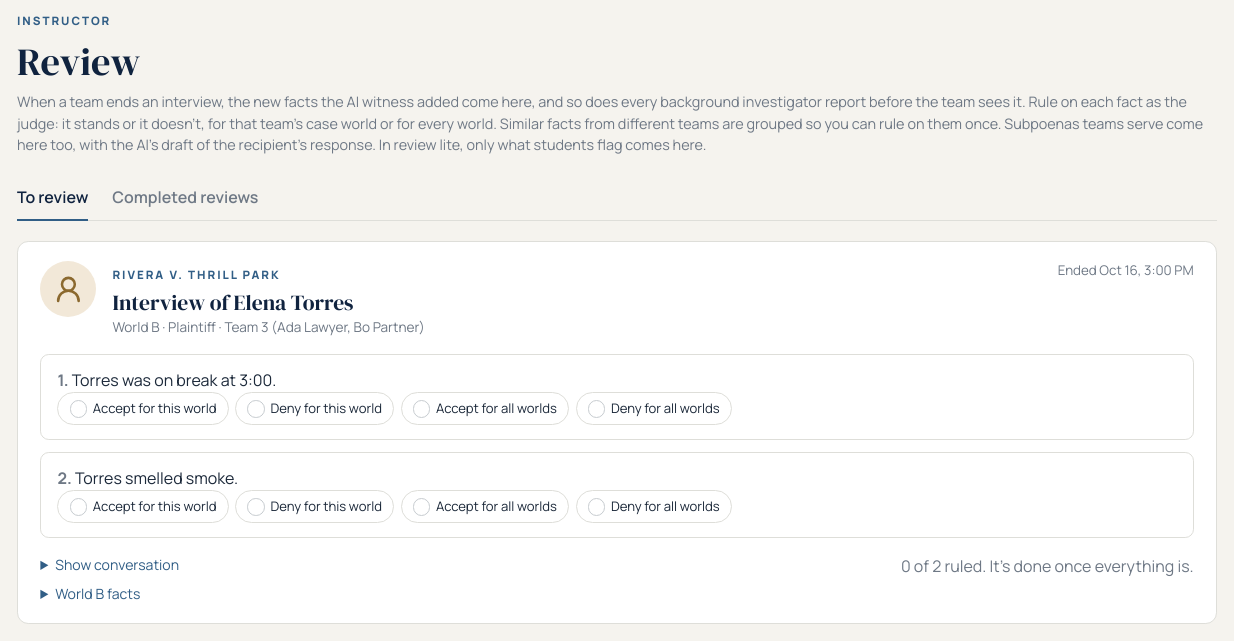
Scenario: ReviewPage › saves each ruling, and the review is done once every fact has one
Click the radio button labelled "Accept for this world" below "Torres was on break at 3:00." at (78, 409), box top-left (70, 400), bottom-right (87, 418)
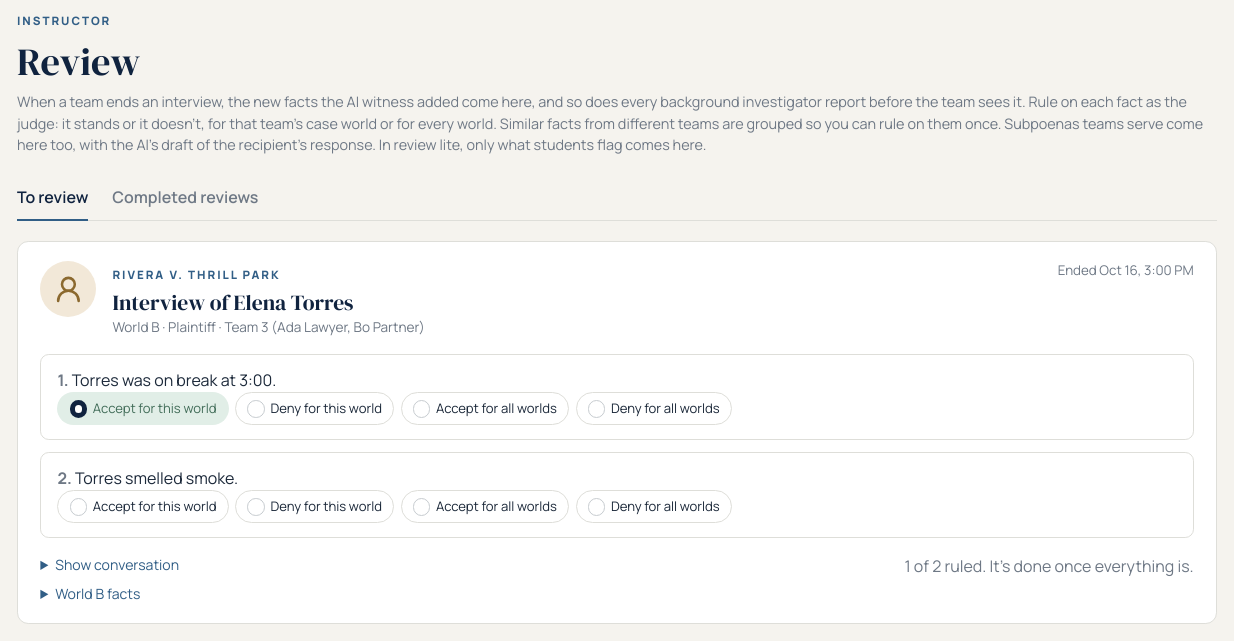
Expected: the element "Interview of Elena Torres" shows "1 of 2 ruled", top-left (17, 241), bottom-right (1217, 624)
Click the 2nd radio button labelled "Deny for all worlds" at (596, 507), box top-left (588, 498), bottom-right (605, 516)
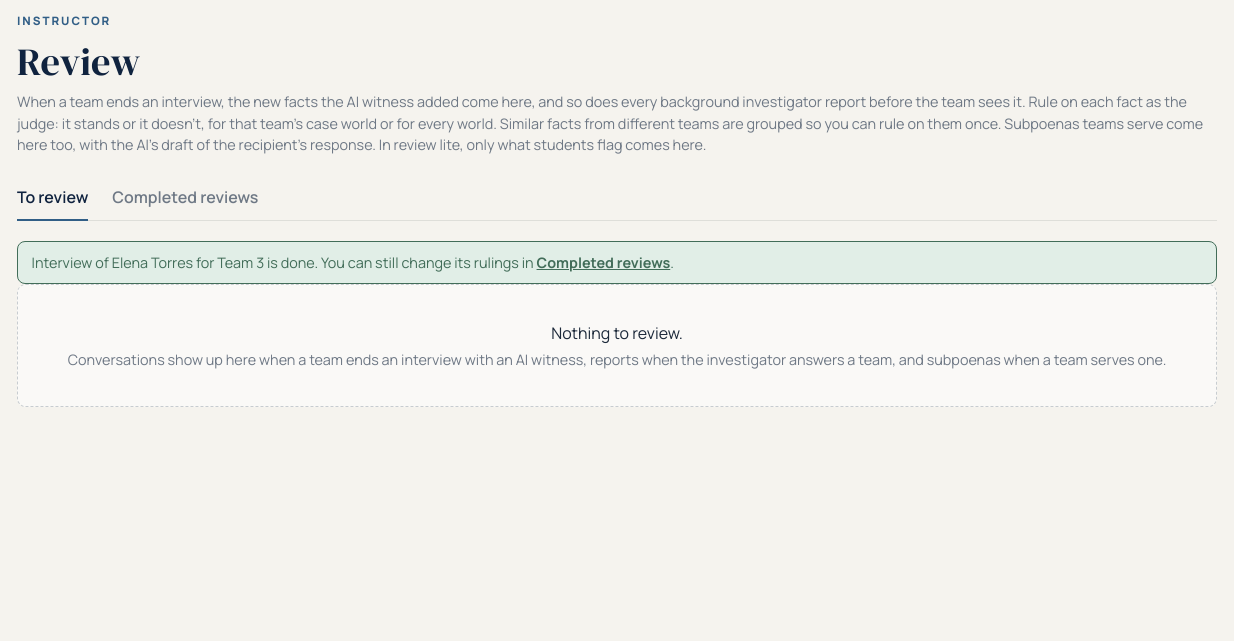
Expected: the message shows "Interview of Elena Torres for Team 3 is done.", top-left (32, 253), bottom-right (318, 272)
